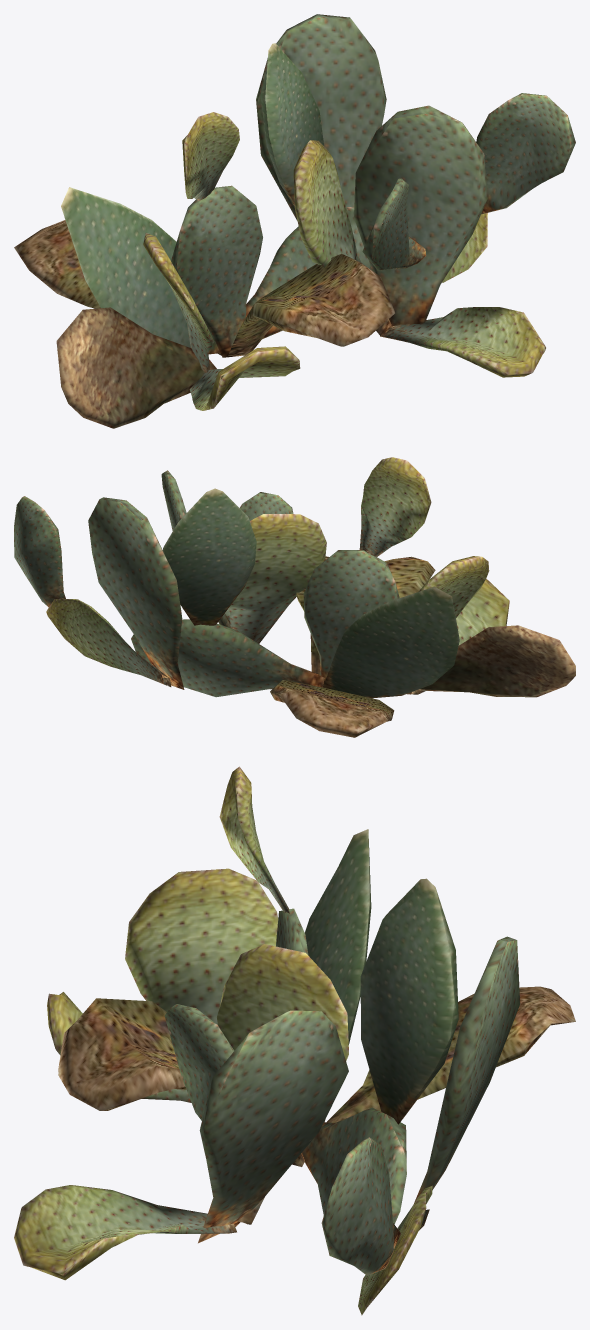
The model's file is DesertPlant05A.FBX.
3 renders of one model, top to bottom at view 1: azimuth 30°, elevation 25°; view 2: azimuth 150°, elevation 25°; view 3: azimuth 270°, elevation 25°, orthographic. The views are drawn at different scales.
Visible parts, largest first — view 1: DesertPlant05A; view 2: DesertPlant05A; view 3: DesertPlant05A.
Boxes of the visible parts, bbox=[...] form: DesertPlant05A: bbox=[14, 14, 575, 428]; DesertPlant05A: bbox=[14, 457, 575, 737]; DesertPlant05A: bbox=[14, 766, 575, 1315].
Bounding box in the file's own units: 6.57 × 3.05 × 4.24.
1 material, 1 textured.
